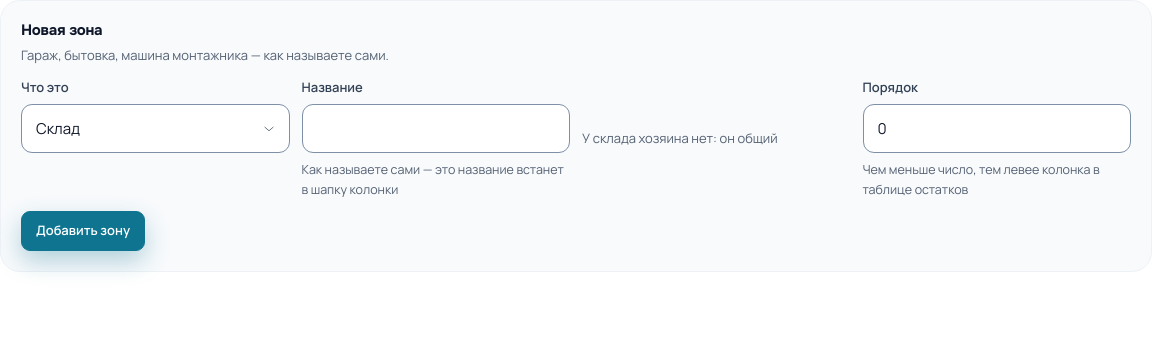
it: Форма зоны хранения › отказ сервера объясняется словами и не теряет введённое
Type "Гараж на Демидовской" into the field labelled "Название" at (436, 129), box [302,104,570,153]
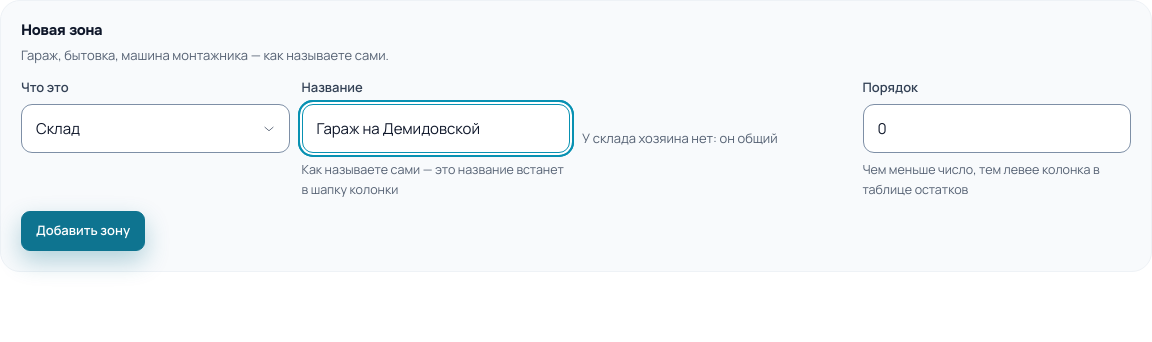
Click the button "Добавить зону" at (83, 231), box [21,211,145,251]
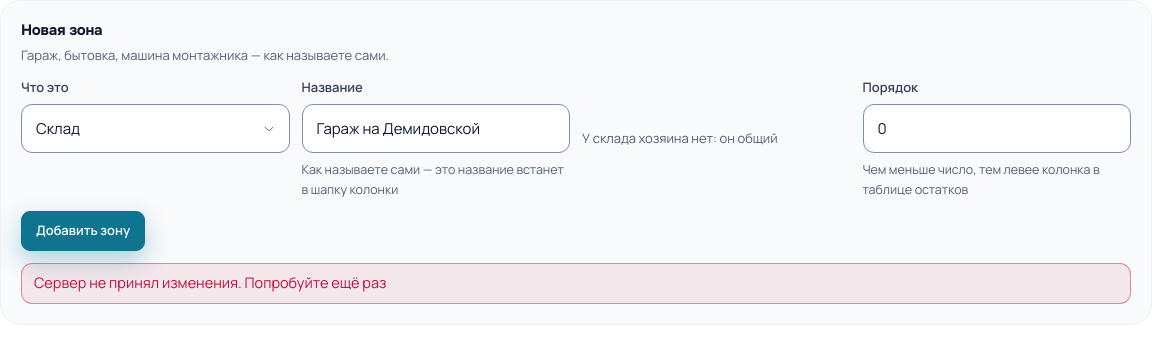
Check: the message reads "Сервер не принял изменения. Попробуйте ещё раз", box [34,273,386,292]
